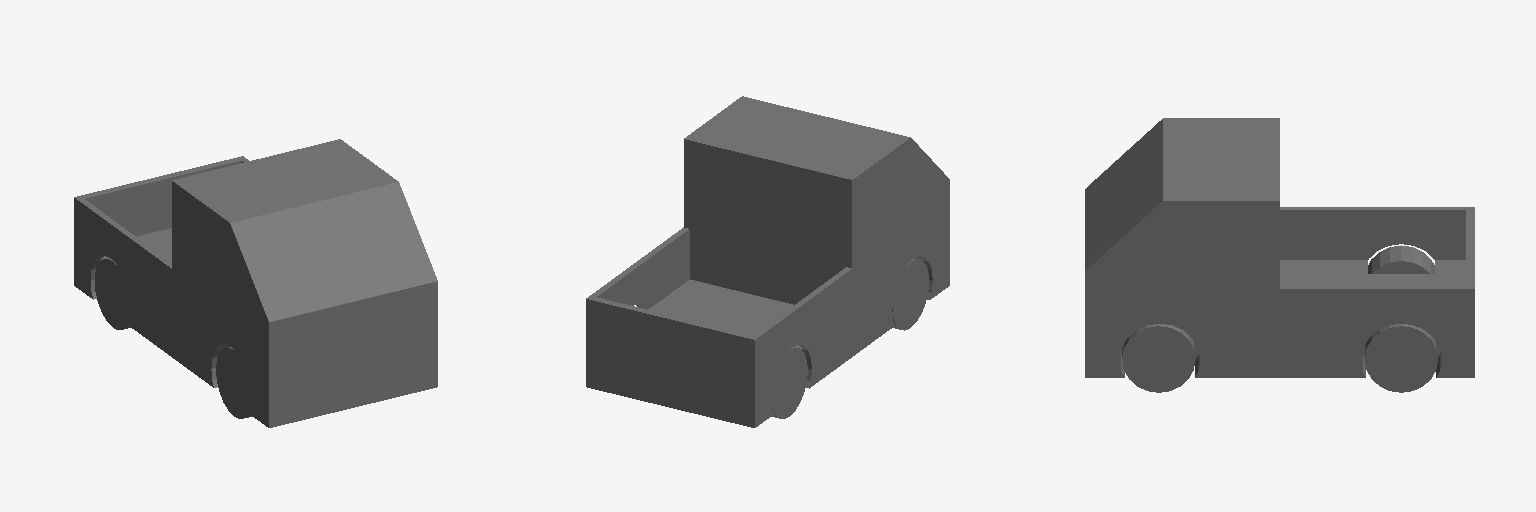
File: car.obj
3 renders of one model, left to right at view 1: azimuth 30°, elevation 25°; view 2: azimuth 150°, elevation 25°; view 3: azimuth 270°, elevation 25°, orthographic.
Parts seen in each view (by area): view 1: group1 pCube6, pCube7 group1, group1 pCylinder9, group1 pCylinder11; view 2: group1 pCube6, pCube7 group1, group1 pCylinder11, group1 pCylinder9; view 3: group1 pCube6, pCube7 group1, group1 pCylinder10, group1 pCylinder8, group1 pCylinder9.
Part boxes in pixels (left/top/right/bottom): group1 pCube6: left=172, top=139, right=437, bottom=427; pCube7 group1: left=74, top=156, right=248, bottom=356; group1 pCylinder9: left=95, top=258, right=130, bottom=329; group1 pCylinder11: left=216, top=347, right=252, bottom=418; group1 pCube6: left=684, top=96, right=949, bottom=356; pCube7 group1: left=586, top=227, right=851, bottom=427; group1 pCylinder11: left=892, top=258, right=928, bottom=330; group1 pCylinder9: left=771, top=347, right=807, bottom=418; group1 pCube6: left=1085, top=118, right=1279, bottom=377; pCube7 group1: left=1280, top=207, right=1474, bottom=377; group1 pCylinder10: left=1122, top=324, right=1195, bottom=392; group1 pCylinder8: left=1365, top=324, right=1437, bottom=392; group1 pCylinder9: left=1368, top=245, right=1434, bottom=273.
Size of the model in its own units: 3 by 3.27 by 6.